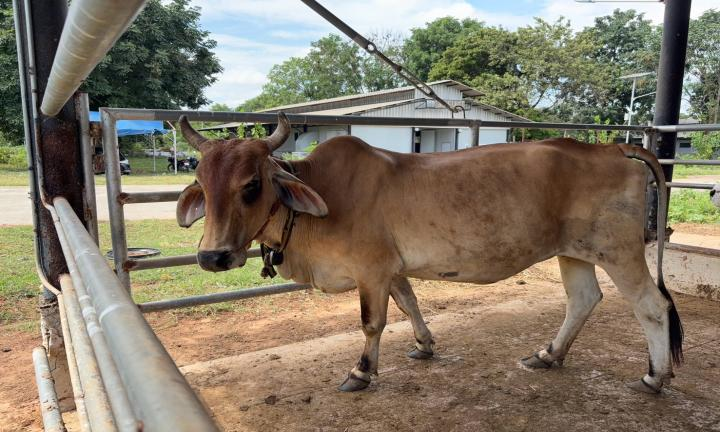Brahman: (176, 112, 682, 392)
